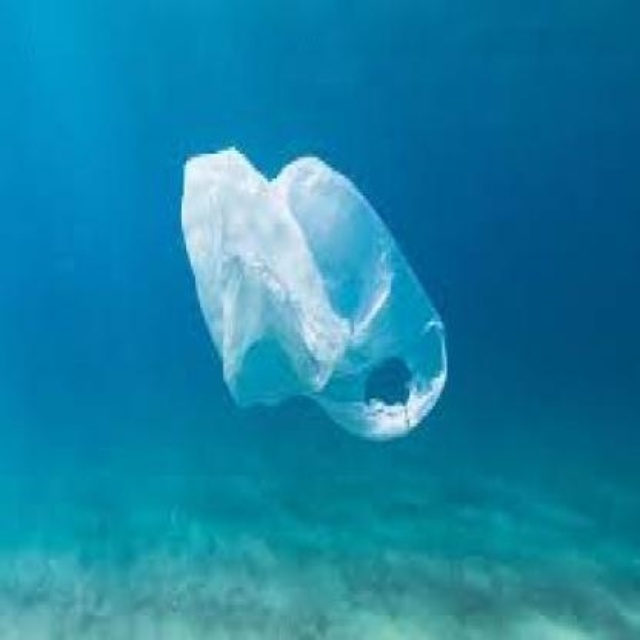trash: (182, 149, 445, 437)
